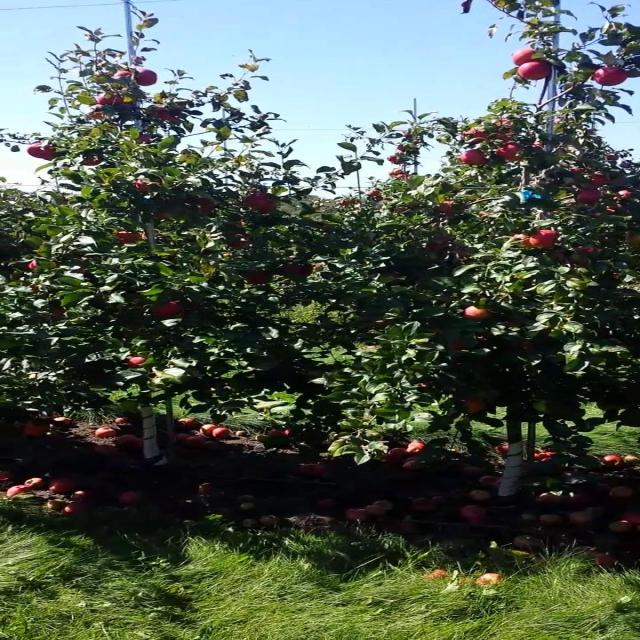apple: (596, 68, 631, 88), (518, 64, 555, 80), (497, 144, 524, 163), (532, 232, 562, 249), (511, 48, 539, 65), (511, 48, 539, 65), (28, 144, 57, 160), (156, 304, 183, 320), (461, 308, 492, 321), (461, 152, 489, 166), (134, 72, 158, 88), (227, 232, 251, 248), (461, 400, 485, 416), (589, 172, 612, 188), (461, 132, 491, 144), (575, 192, 604, 204), (120, 232, 148, 244), (156, 108, 180, 122), (525, 176, 555, 187), (284, 264, 311, 276), (575, 252, 596, 267), (28, 424, 52, 437), (248, 272, 272, 285), (426, 240, 450, 252), (255, 200, 277, 213), (611, 188, 633, 201), (497, 120, 514, 136), (127, 356, 149, 368), (511, 236, 533, 248), (575, 244, 599, 255), (447, 340, 469, 352), (134, 180, 155, 192), (84, 156, 105, 168), (198, 200, 219, 212), (248, 196, 270, 206), (547, 252, 569, 262), (156, 108, 174, 120), (625, 232, 639, 247), (99, 96, 119, 106), (497, 132, 516, 142), (92, 108, 107, 120), (49, 308, 66, 318), (28, 260, 41, 272), (113, 72, 135, 79), (440, 204, 455, 213), (568, 168, 587, 175), (120, 96, 133, 106), (156, 212, 171, 220), (141, 136, 155, 144), (604, 208, 619, 215), (532, 144, 546, 149), (483, 212, 491, 217)
